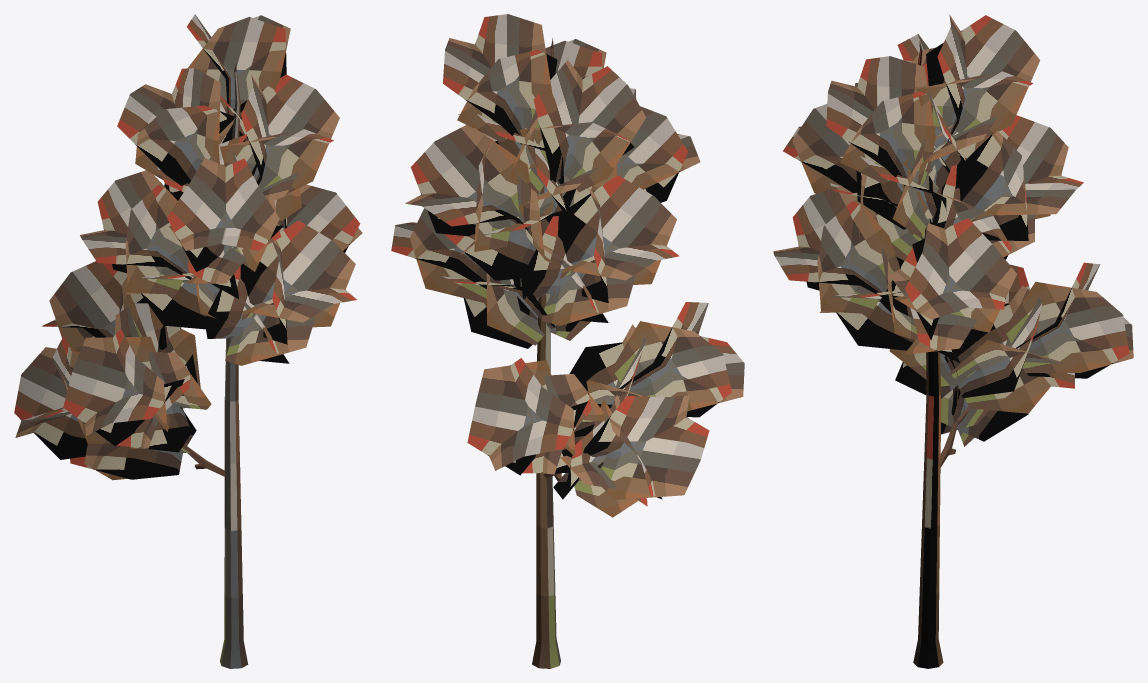
File: SM_Tree_Birch_04.glb
3 renders of one model, left to right at view 1: azimuth 30°, elevation 25°; view 2: azimuth 150°, elevation 25°; view 3: azimuth 270°, elevation 25°, orthographic. The views are drawn at different scales.
Parts seen in each view (by area): view 1: SM_Tree_Birch_04; view 2: SM_Tree_Birch_04; view 3: SM_Tree_Birch_04.
Part boxes in pixels (bbox=[...]): SM_Tree_Birch_04: bbox=[14, 14, 362, 668]; SM_Tree_Birch_04: bbox=[391, 14, 744, 668]; SM_Tree_Birch_04: bbox=[773, 14, 1133, 668].
Bounding box in the file's own units: 2.52 × 4.89 × 2.46.
2 materials, 2 textured.
